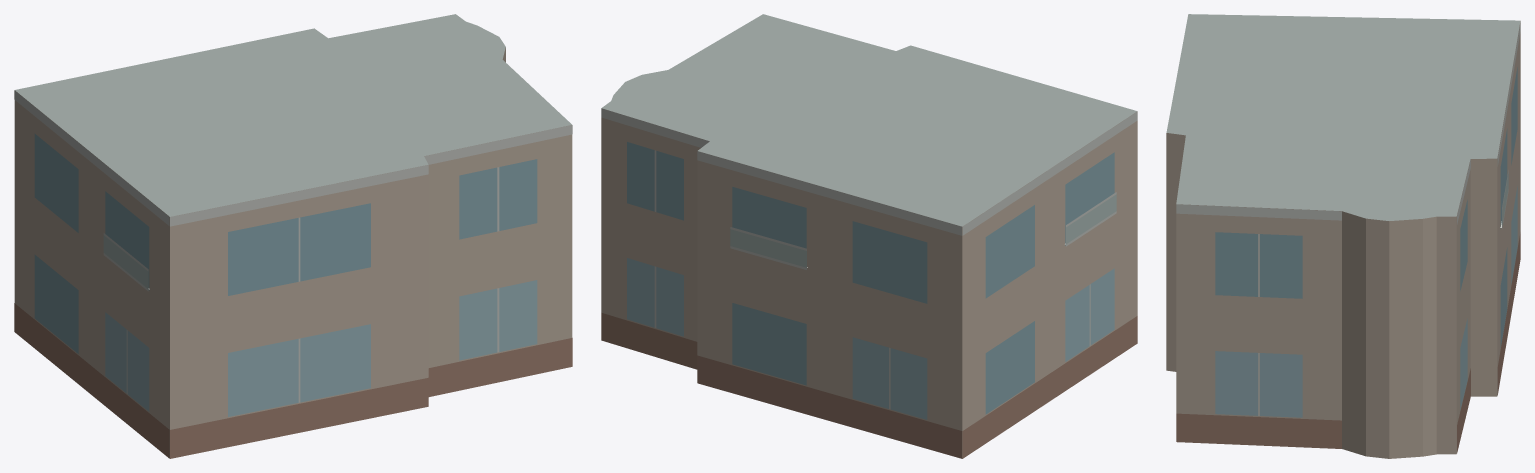
The model's file is survey-upis-32563876.glb.
The picture shows the model from 3 angles, left to right: view 1: azimuth 30°, elevation 25°; view 2: azimuth 150°, elevation 25°; view 3: azimuth 270°, elevation 25°; orthographic projection. The views are drawn at different scales.
Visible parts, largest first — view 1: survey-upis-32563876.tmp; view 2: survey-upis-32563876.tmp; view 3: survey-upis-32563876.tmp.
Boxes of the visible parts, x1,y1,x2,y2 form: survey-upis-32563876.tmp: (14, 14, 572, 458); survey-upis-32563876.tmp: (601, 14, 1137, 458); survey-upis-32563876.tmp: (1166, 14, 1520, 458).
Size of the model in its own units: 11.4 by 6.1 by 8.24.
